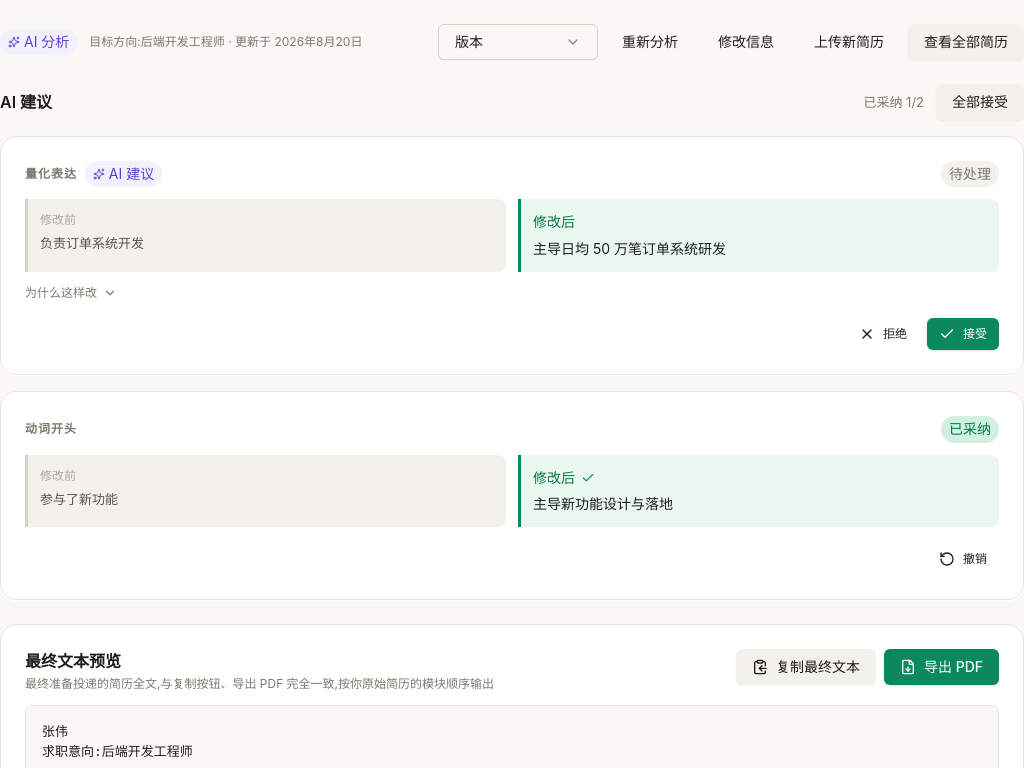
it: ResumeResult 结果视图 › 全部接受确认框:正文显示尚未采纳条数
The image size is (1024, 768).
Step 1. Click the button "全部接受" → (980, 102), box [936,84,1023,120]
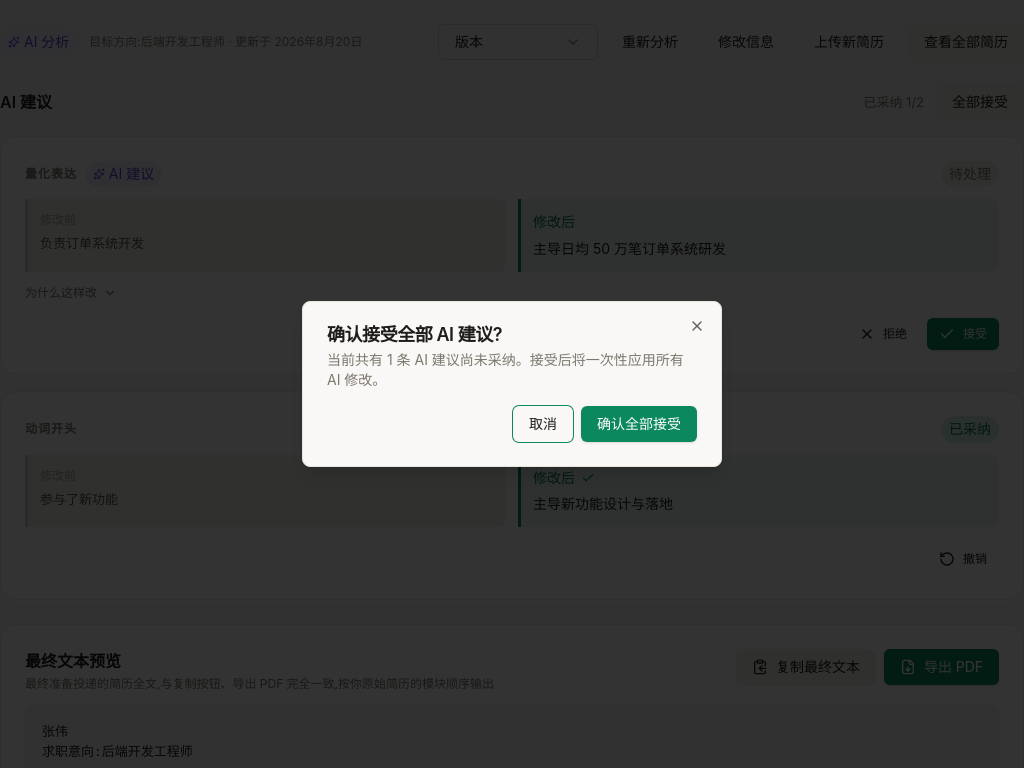
expect the text "当前共有 1 条 AI 建议尚未采纳。接受后将一次性应用所有 AI 修改。" is shown: met, box [327,350,697,390]
